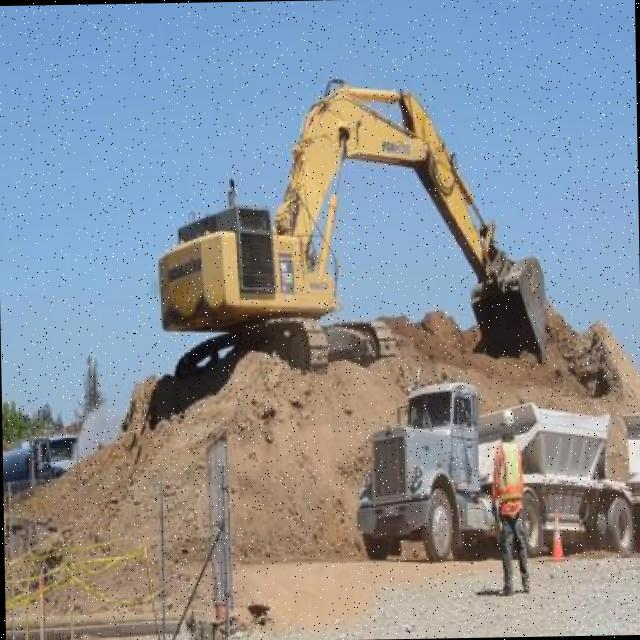Dump Truck: (355, 360, 640, 567)
Excavator: (150, 64, 550, 376)
